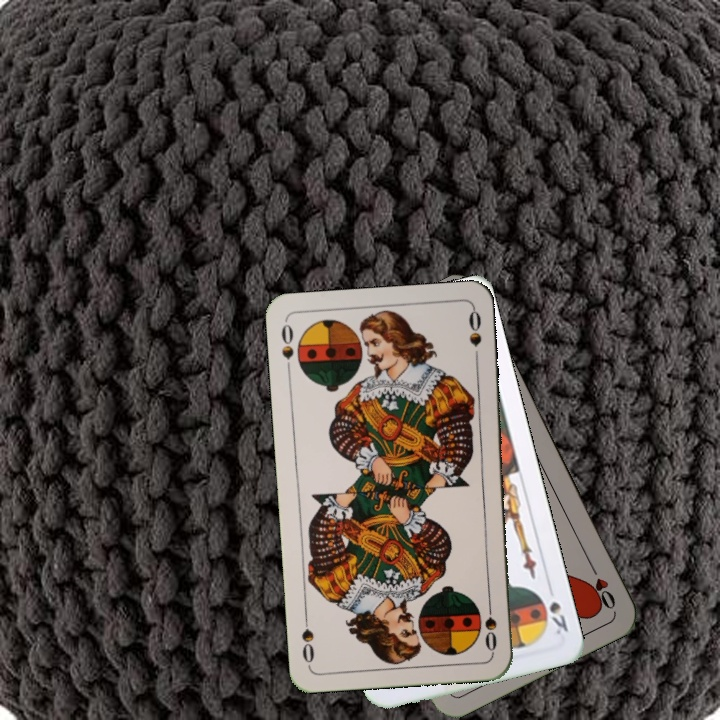HO: (584, 557, 618, 612)
SK: (544, 580, 571, 638)
SO: (480, 595, 500, 653), (277, 320, 297, 377)
